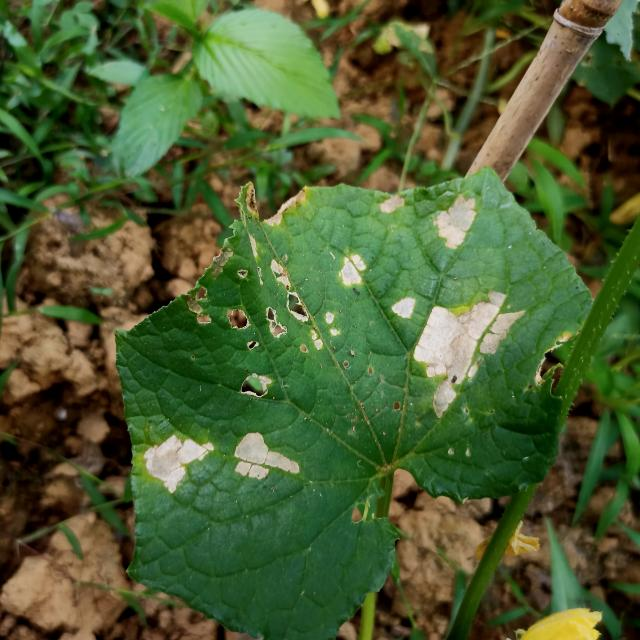disease_cucumber: (337, 192, 522, 433), (192, 253, 332, 407), (140, 414, 317, 498)
